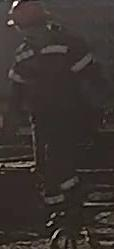helmet: (6, 0, 49, 32)
vest: (9, 29, 90, 144)
